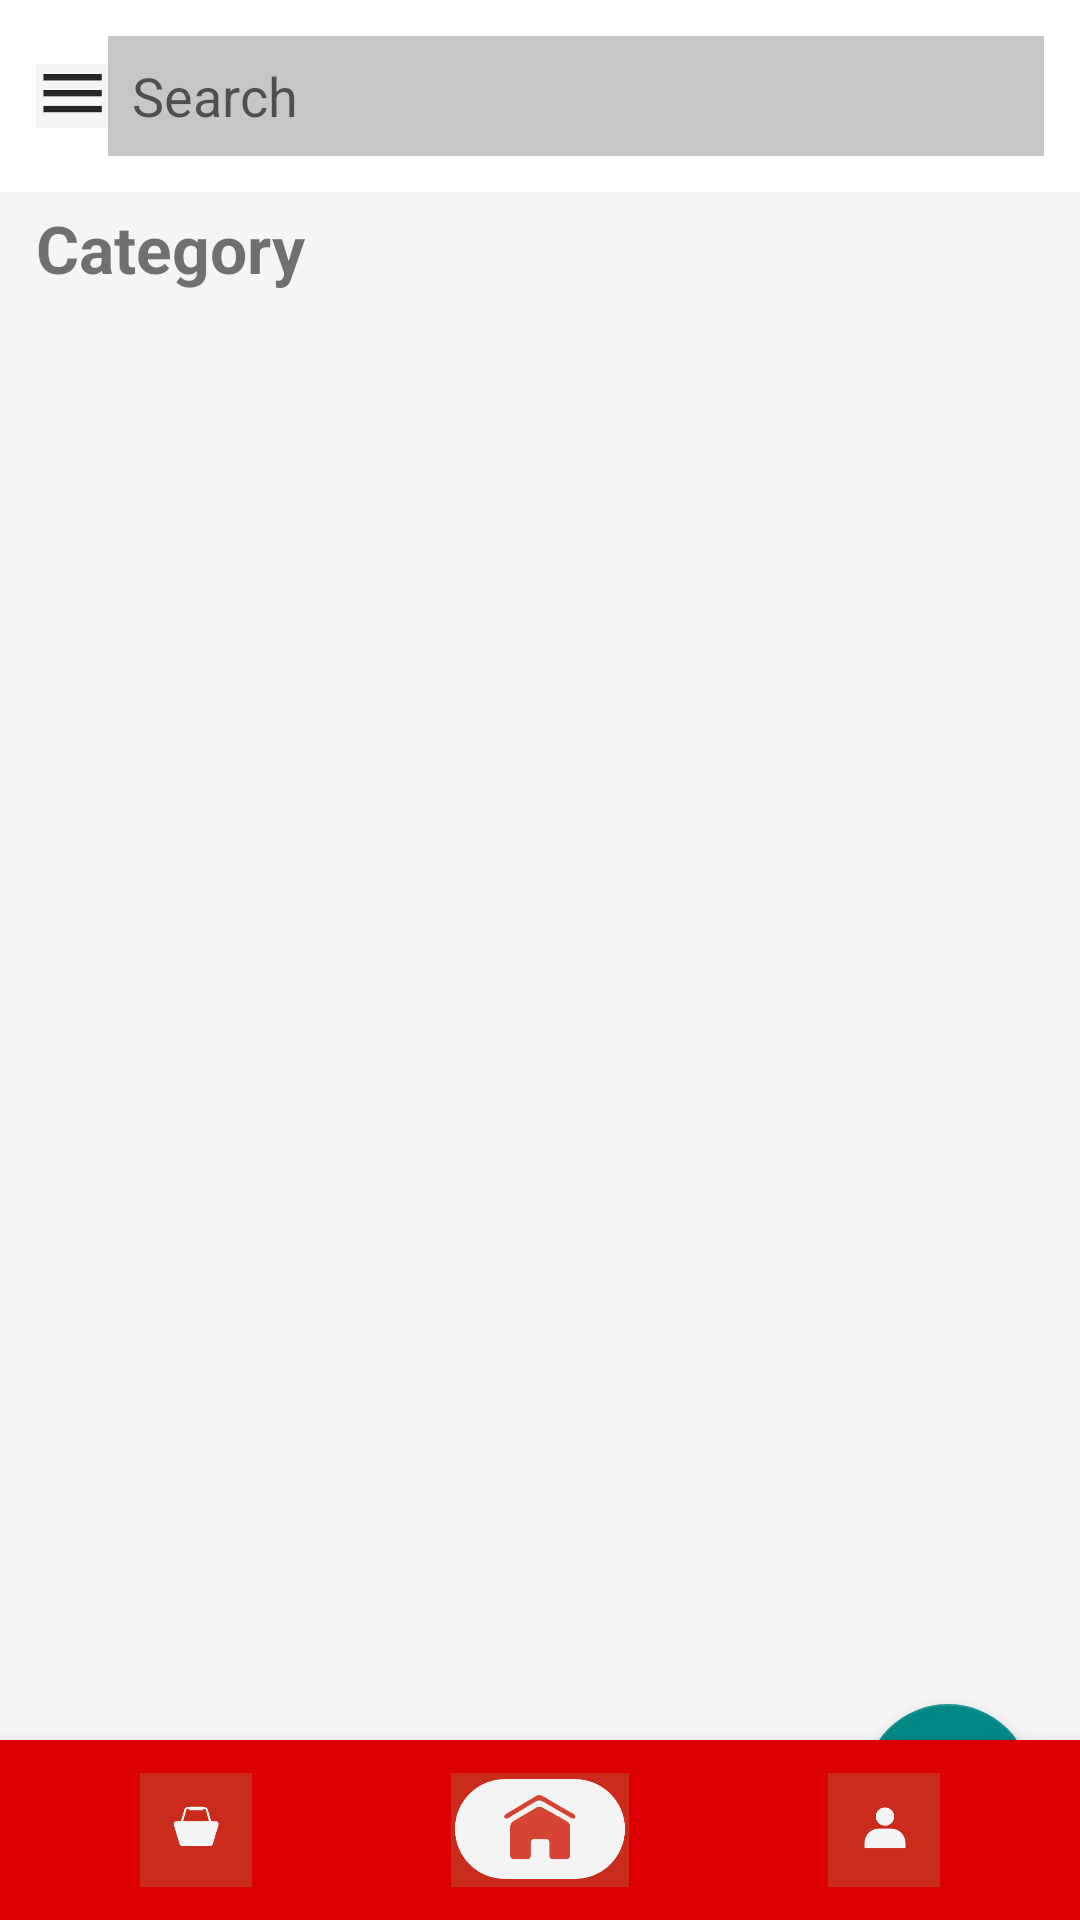

Point at icon controls on the screen. Image size 1080 × 1920, points as (x=x, y=y).
Home: (x=540, y=1830)
Menu Icon: (x=72, y=93)
